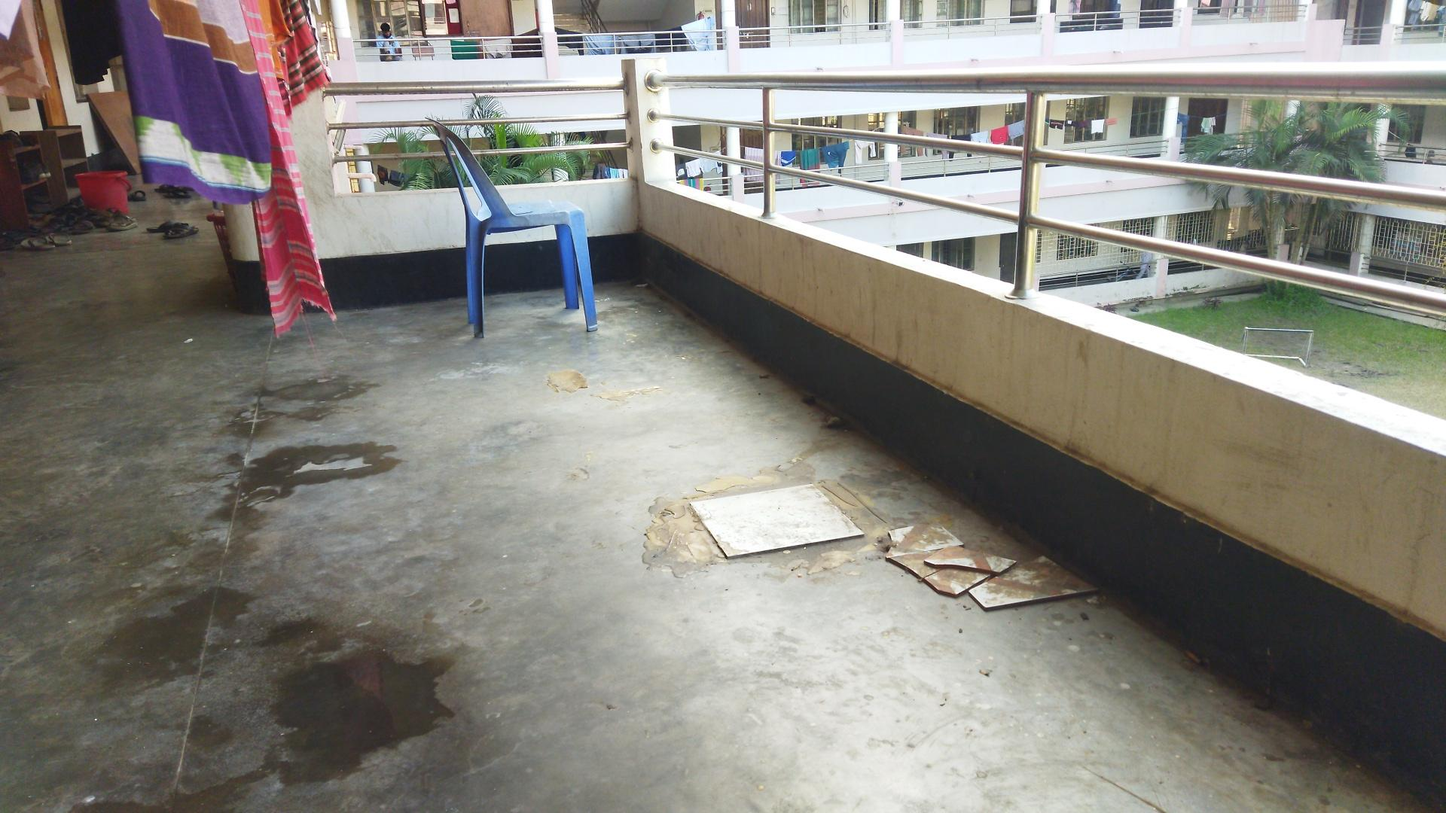Chair: (419, 106, 597, 334)
